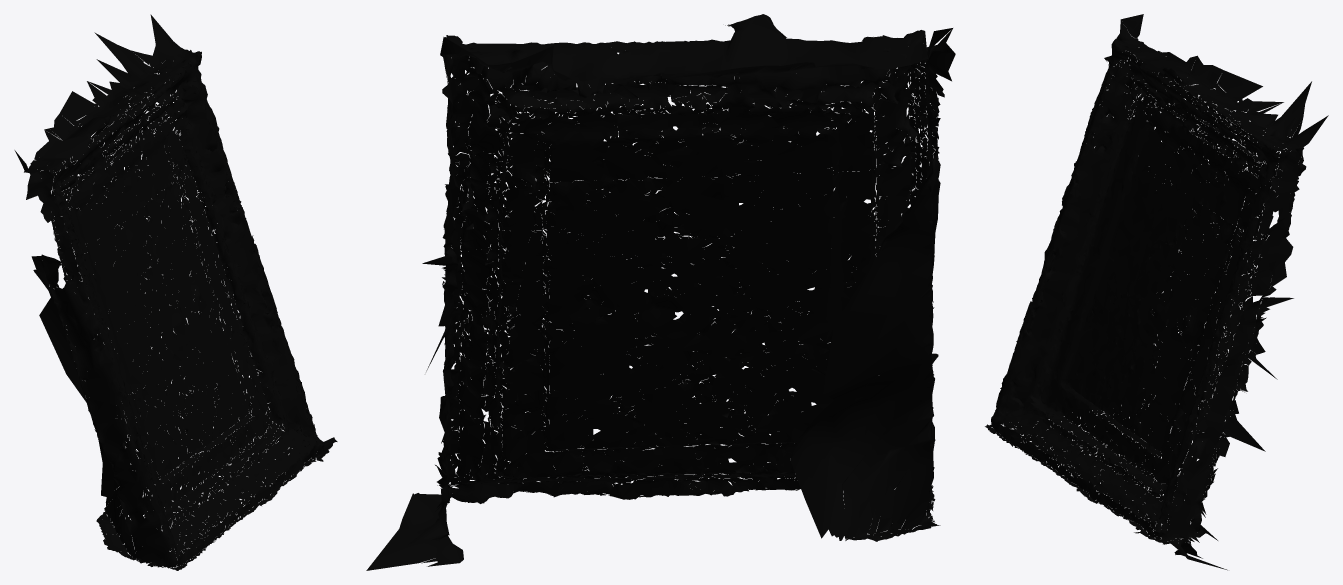
File: asset.glb
3 views of the same model, side by side, from view 1: azimuth 30°, elevation 25°; view 2: azimuth 150°, elevation 25°; view 3: azimuth 270°, elevation 25° (orthographic). The views are drawn at different scales.
Parts seen in each view (by area): view 1: Object_3; view 2: Object_3; view 3: Object_3.
Part boxes in pixels (x1=…): Object_3: x1=14, y1=14, x2=337, y2=570; Object_3: x1=366, y1=14, x2=955, y2=570; Object_3: x1=985, y1=14, x2=1328, y2=570.
Bounding box in the file's own units: 0.3498 × 0.4221 × 0.3199.
Materials: 1 (1 with a texture image).
